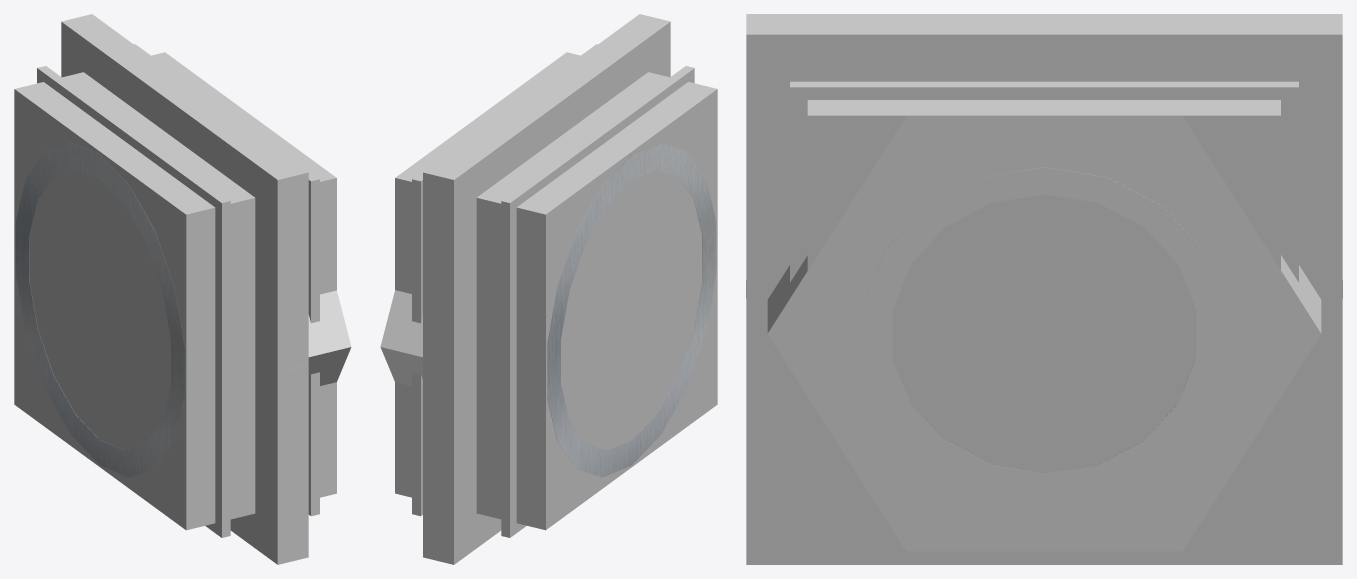
The model's file is rad1_zagl_1s2.FBX.
3 views of the same model, side by side, from view 1: azimuth 30°, elevation 25°; view 2: azimuth 150°, elevation 25°; view 3: azimuth 270°, elevation 25° (orthographic). The views are drawn at different scales.
Parts seen in each view (by area): view 1: rad1_zagl_1/2_COL003, rad1_zagl_1/2, size_2_L_est_004, size_2_L_est_007; view 2: rad1_zagl_1/2_COL003, rad1_zagl_1/2, size_2_L_est_004, size_2_L_est_007; view 3: rad1_zagl_1/2_COL003, rad1_zagl_1/2, size_2_L_est_007.
Boxes of the visible parts, x1,y1,x2,y2 form: rad1_zagl_1/2_COL003: (14,14,336,564); rad1_zagl_1/2: (15,143,351,477); size_2_L_est_004: (37,66,230,537); size_2_L_est_007: (134,44,319,516); rad1_zagl_1/2_COL003: (395,14,717,564); rad1_zagl_1/2: (380,143,716,477); size_2_L_est_004: (501,66,694,537); size_2_L_est_007: (412,44,597,516); rad1_zagl_1/2_COL003: (746,14,1342,564); rad1_zagl_1/2: (746,116,1342,551); size_2_L_est_007: (790,81,1298,548).
Bounding box in the file's own units: 0.017 × 0.0414 × 0.0422.
3 materials, 2 textured.
